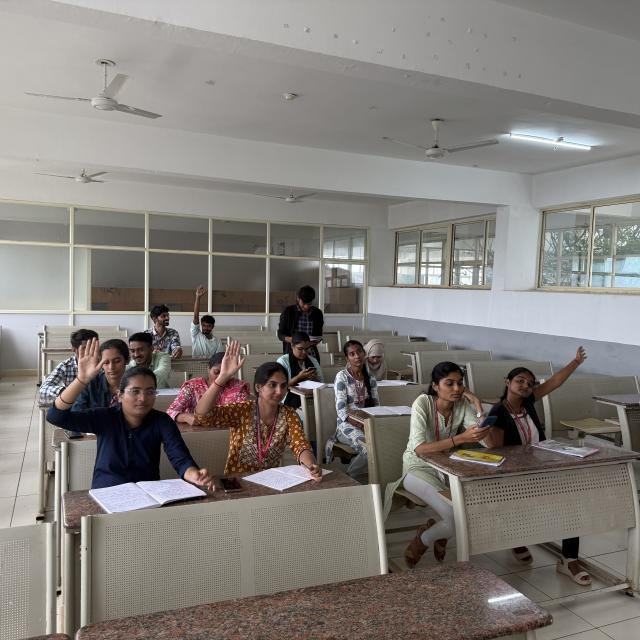Hand Rising: (56, 339, 175, 467), (201, 338, 306, 452), (490, 338, 599, 432), (188, 282, 225, 359)
Reading: (272, 284, 330, 344), (360, 335, 401, 391)
Using Phone: (402, 357, 504, 467), (277, 330, 327, 386)
